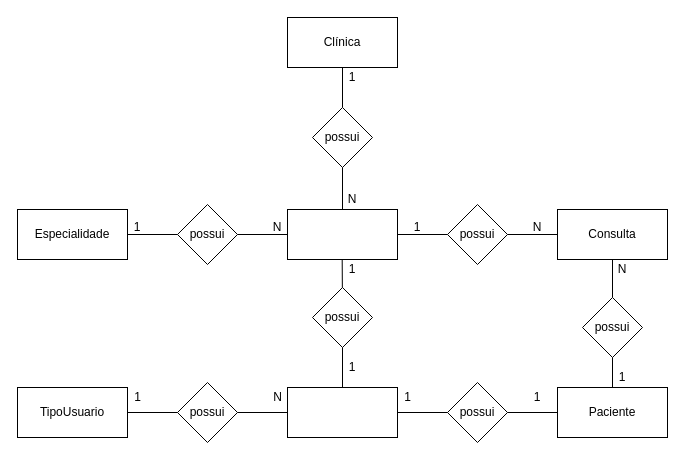
The diagram is 685 pixels wide and 460 high, and some of its shapes have lost their labels. The centre of each missing label's shape, as x and y in pixels:
"Médico" belongs at point (342, 234).
"Usuario" belongs at point (342, 412).
